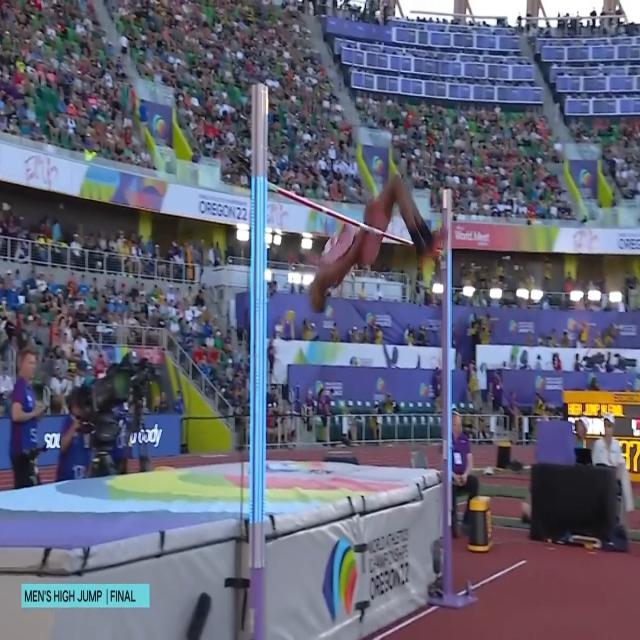jump: (307, 169, 445, 315)
